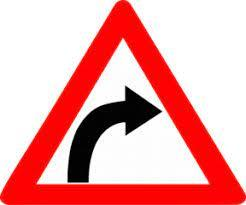Right Hand Curve: (21, 3, 223, 196)
